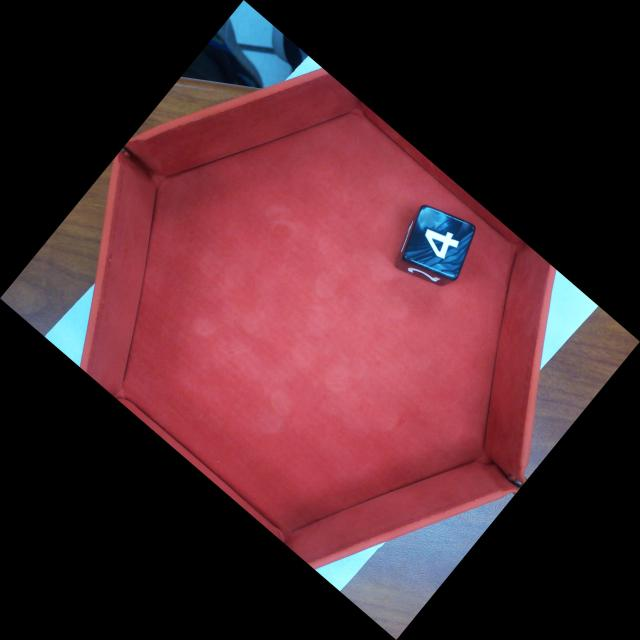dice: (400, 204, 477, 283)
